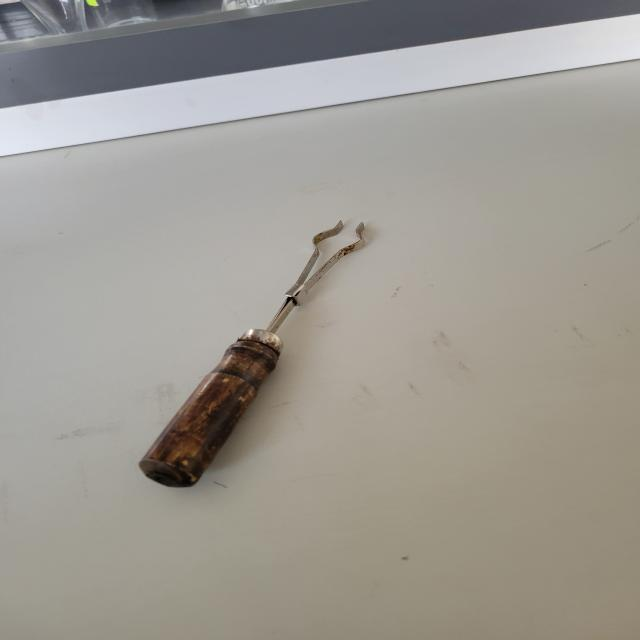TestTube_Holder: (106, 154, 409, 521)
